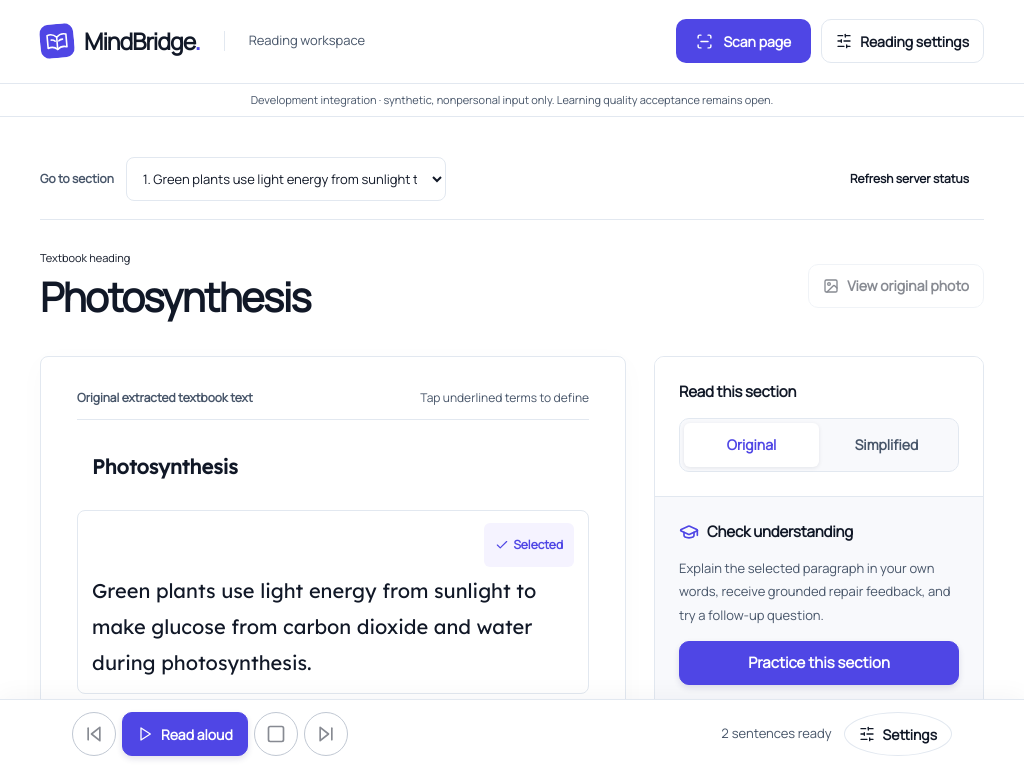
Scenario: Glossary, Simplify, and SourceLens › labels unavailable terminology check explicitly in SourceLens
Click the radio button labelled "Simplified".
click(886, 445)  # box 819,423 -> 954,467
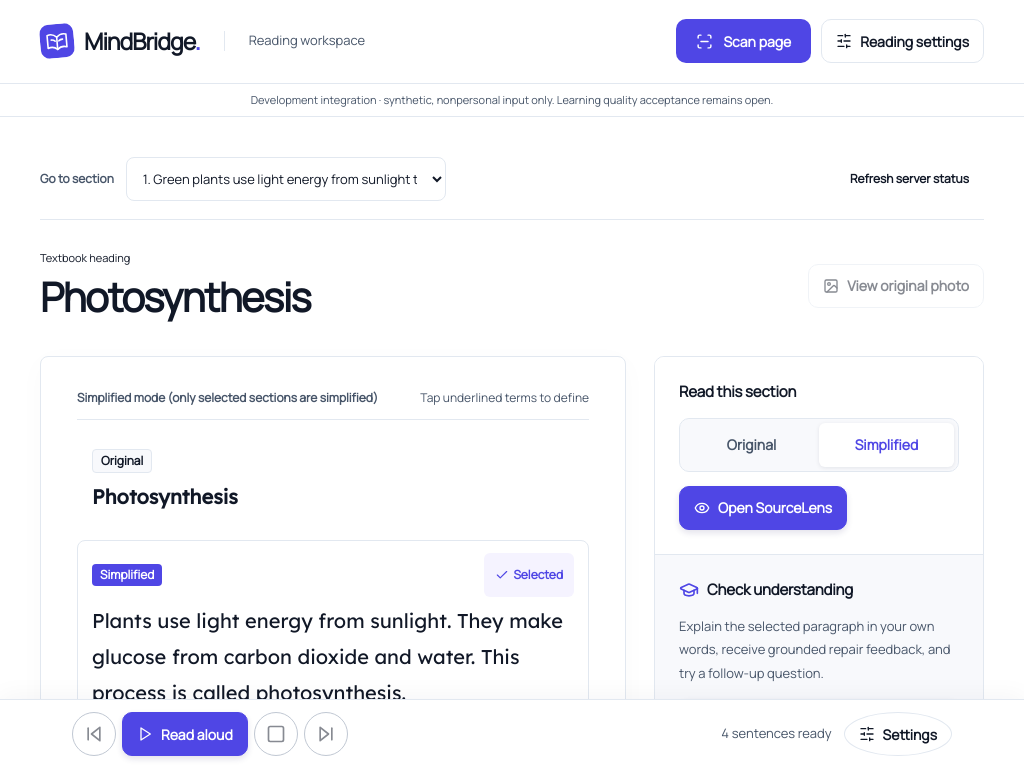
expect the button "Open SourceLens" is shown: met
Click the button "Open SourceLens".
click(763, 508)  # box 679,486 -> 847,530
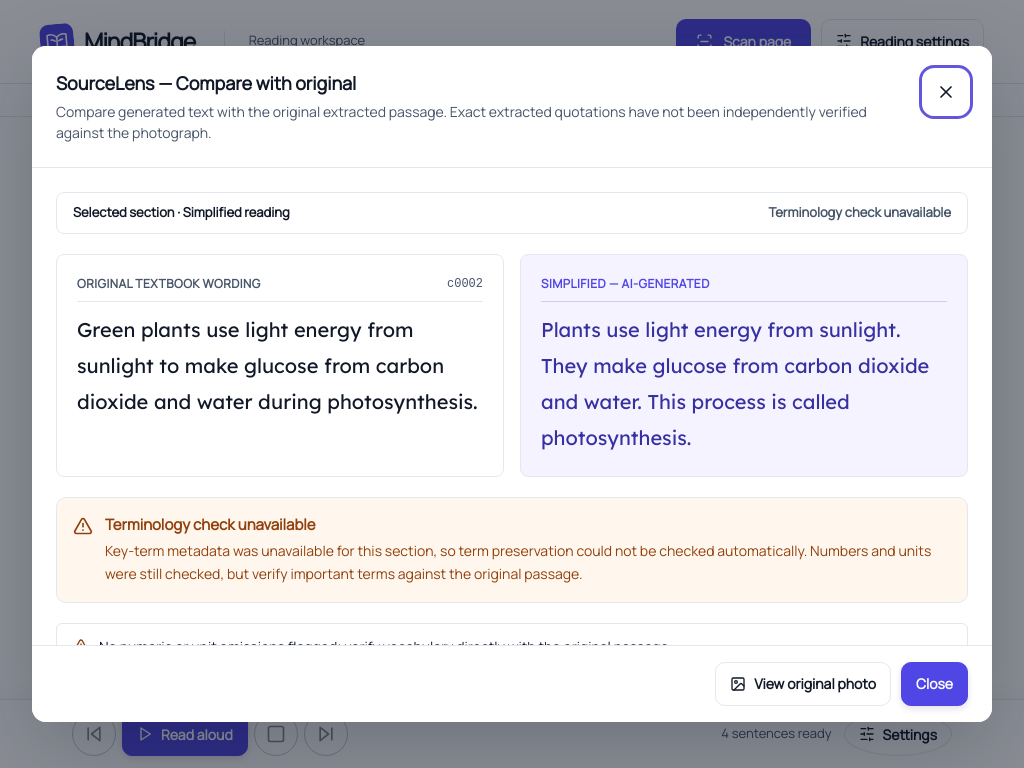
expect the text "Key-term metadata was unavailable for this section" is shown: met, box 105,541 -> 931,583
